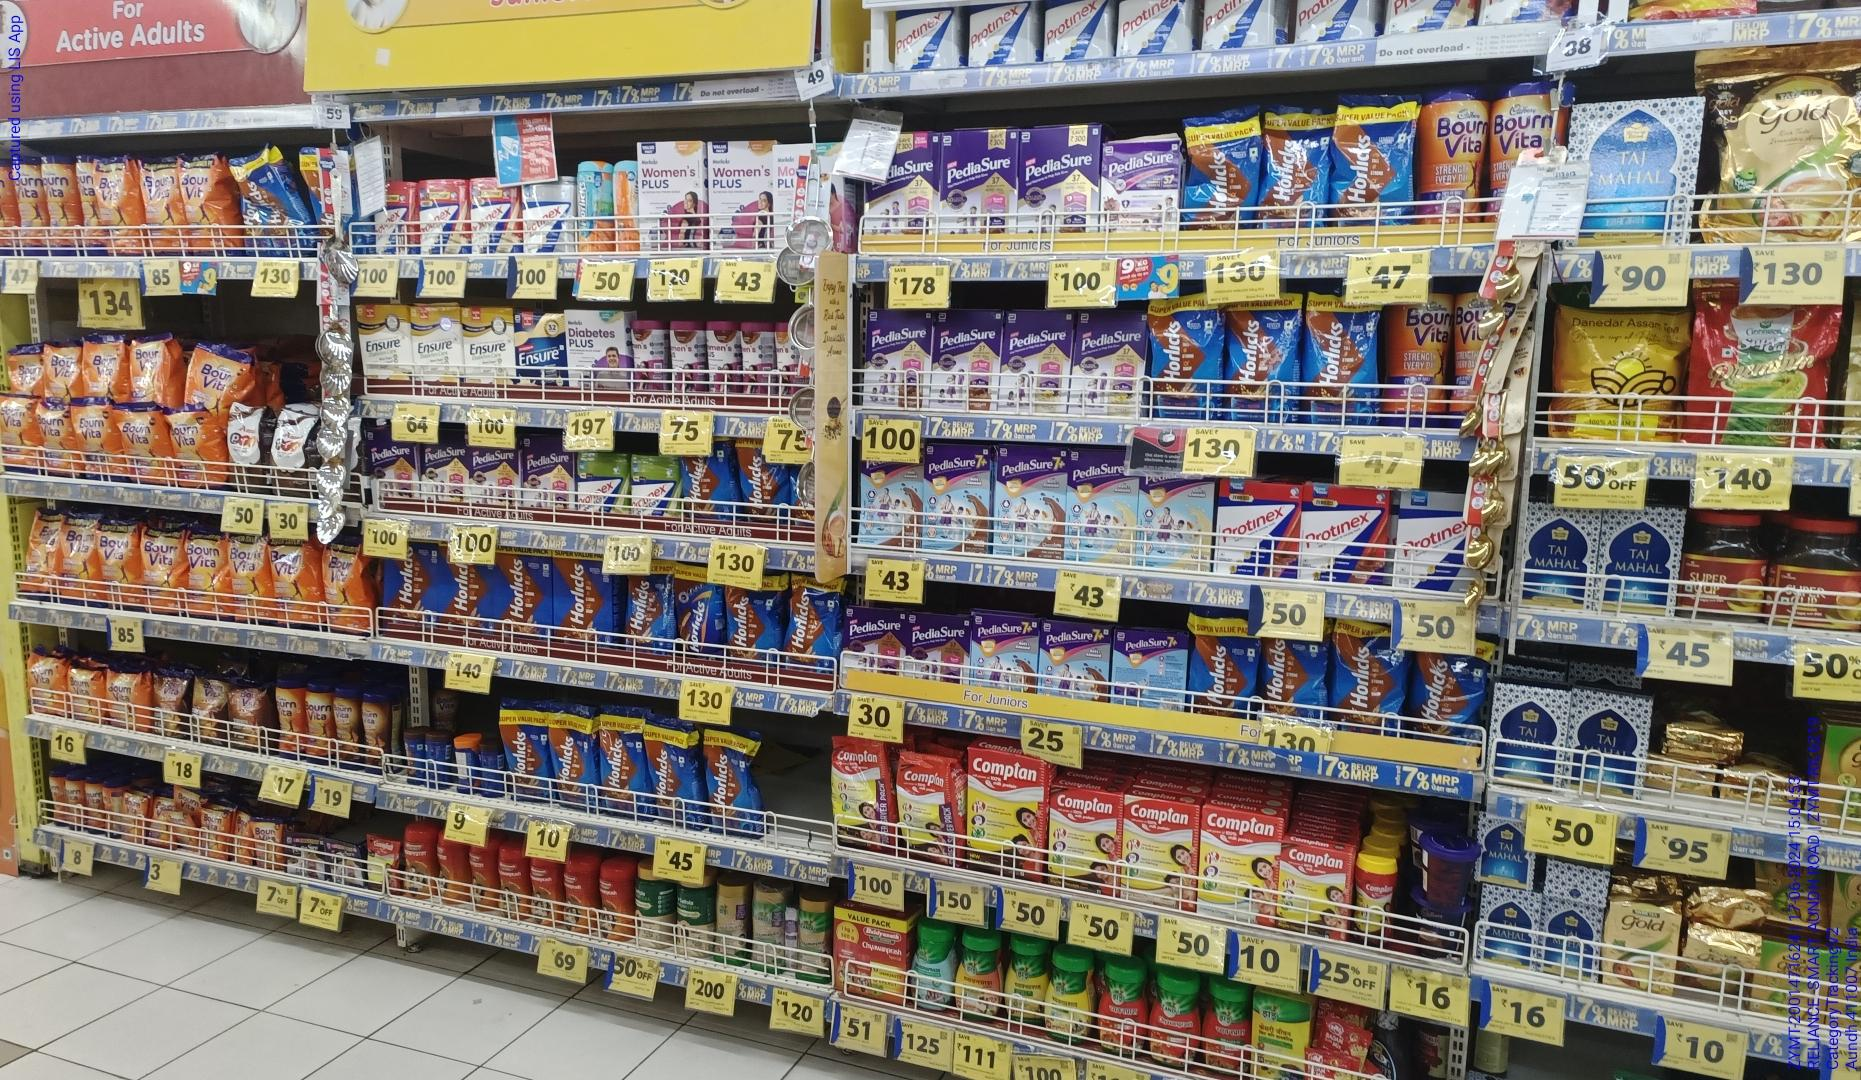BOURN_VITA_1_KG_JAR: (1419, 84, 1486, 222), (1385, 298, 1448, 427), (45, 156, 78, 256), (13, 156, 44, 256)
BOURN_VITA_1_KG_POUCH: (188, 154, 239, 255), (324, 535, 373, 635), (99, 158, 144, 255), (276, 537, 323, 629), (145, 157, 186, 255), (186, 531, 230, 618), (231, 534, 274, 624), (141, 527, 185, 612), (63, 512, 100, 606), (102, 521, 139, 607)
BOURN_VITA_500_G_JAR: (276, 676, 306, 759), (307, 679, 333, 762)
BOURN_VITA_500_G_POUCH: (108, 662, 152, 730), (28, 644, 68, 717), (69, 658, 105, 720)
BOURN_VITA_750_G_POUCH: (174, 404, 224, 491), (125, 402, 171, 486), (78, 396, 123, 481), (0, 393, 39, 474), (40, 402, 76, 477)
BOURN_VITA_FIVE_STAR_MAGIC_500_G_JAR: (364, 685, 391, 775), (334, 684, 361, 766)
BOURN_VITA_FIVE_STAR_MAGIC_500_G_POUCH: (230, 680, 271, 753), (154, 671, 191, 739), (194, 678, 227, 743)
COMPLAN_CHOCOLATE_200_GMS_PACK: (1050, 787, 1123, 895)
COMPLAN_CHOCOLATE_500_GMS_PACK: (965, 744, 1044, 878)
COMPLAN_KESAR_BADAM_200_GMS_PACK: (1123, 795, 1195, 913)
COMPLAN_RC_POUCH_700_GMS_12: (900, 752, 963, 864), (833, 735, 895, 846)
ENSURE_VANILLA_400_G_PACK: (517, 314, 564, 386)
HORLICKS_LITE_REGULAR_MALT_500_GM_JAR: (577, 163, 616, 253)
HORLICK_CHOCOLATE_1_KG_PACK: (492, 544, 554, 639), (557, 550, 614, 642), (382, 540, 442, 626)
HORLICK_CHOCOLATE_750_G_POUCH: (1334, 93, 1414, 225), (1224, 301, 1302, 422), (1307, 293, 1379, 422), (1260, 99, 1329, 231), (1150, 294, 1222, 419), (1186, 116, 1253, 229), (1334, 620, 1402, 729), (1194, 608, 1258, 712), (706, 726, 761, 836), (649, 717, 703, 829), (601, 705, 648, 815), (788, 573, 841, 667), (731, 575, 781, 669), (554, 699, 598, 805), (503, 699, 550, 795), (738, 441, 790, 523)
PEDIASURE_7_PLUS_CHOCOLATE_400_G_PACK: (991, 446, 1064, 561), (923, 447, 986, 552), (857, 459, 922, 549)
PEDIASURE_CHOCOLATE_500_G_PACK: (933, 312, 996, 413), (868, 312, 929, 405)
PEDIASURE_VANILLA_500_G_PACK: (999, 310, 1071, 410), (1074, 306, 1139, 417)
PROTINEX_ORIGINAL_400_G_JAR: (521, 184, 577, 253)
PROTINEX_VANILLA_400_G_JAR: (419, 181, 468, 252), (472, 180, 519, 251)
